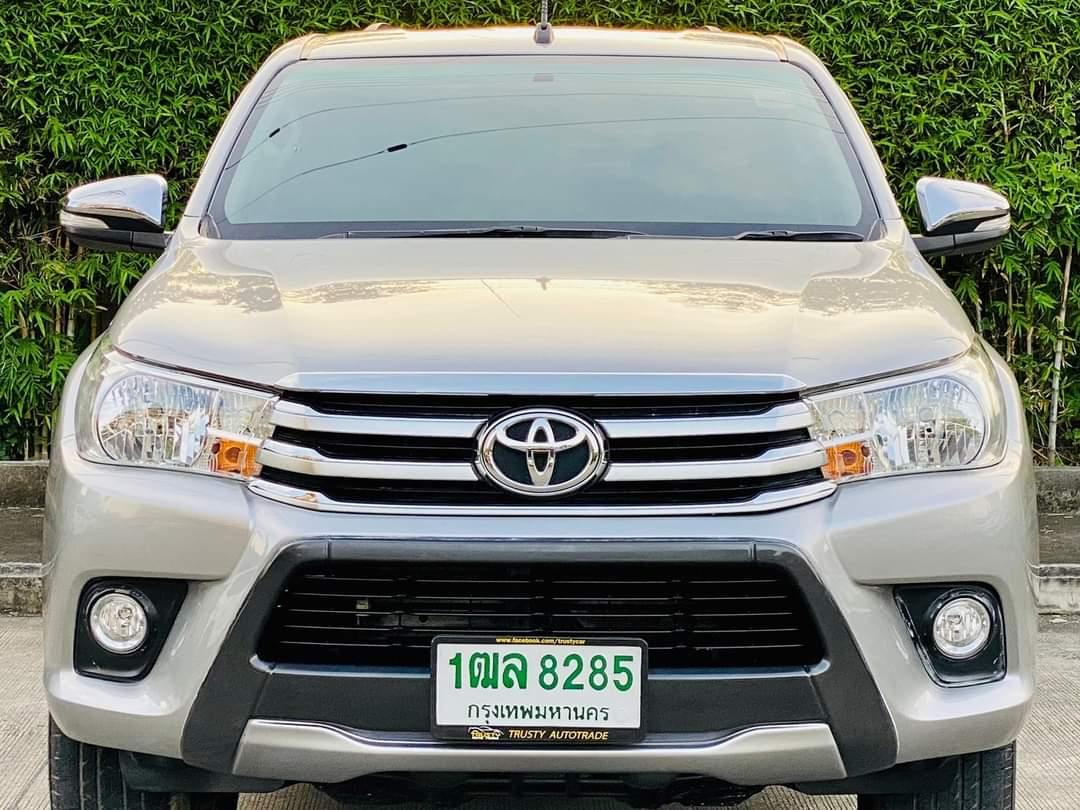license-plate: (428, 625, 643, 747)
